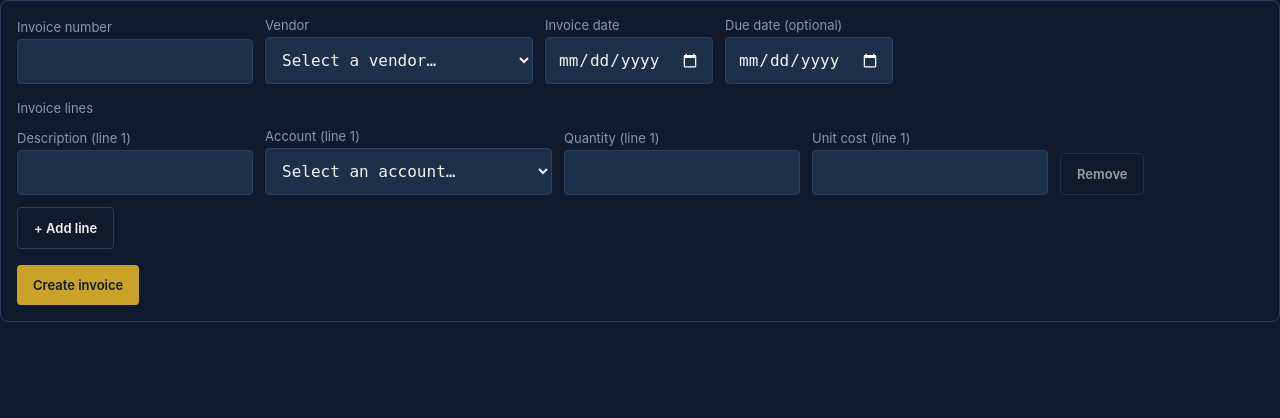
CreateAPInvoiceForm › removes a line when its own Remove button is clicked
Step 1. Click the button "+ Add line" → click(66, 228), box [17, 207, 114, 249]
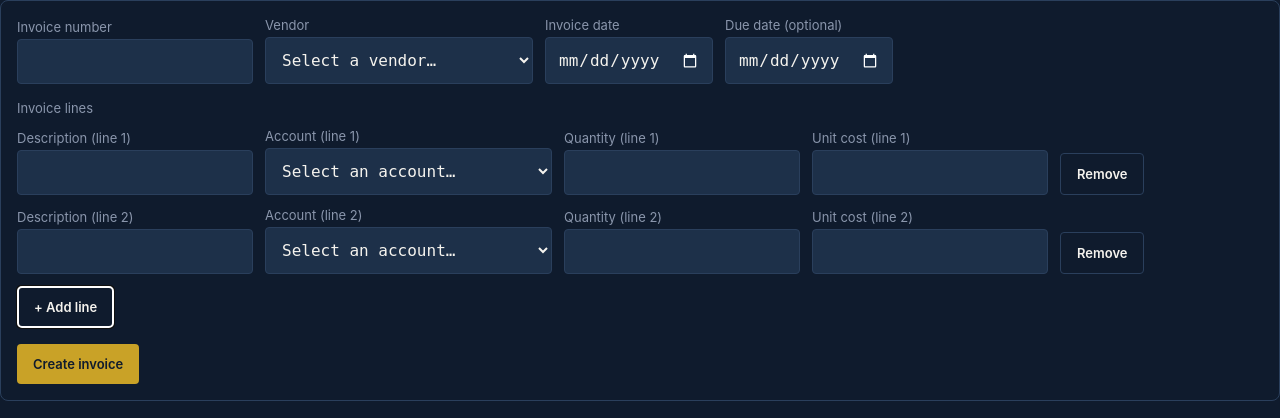
expect the field labelled "Description (line 2)" is shown: met, box [17, 229, 253, 274]
Step 2. Click the button "Remove" below "Unit cost (line 2)" → click(1102, 253), box [1060, 232, 1144, 274]
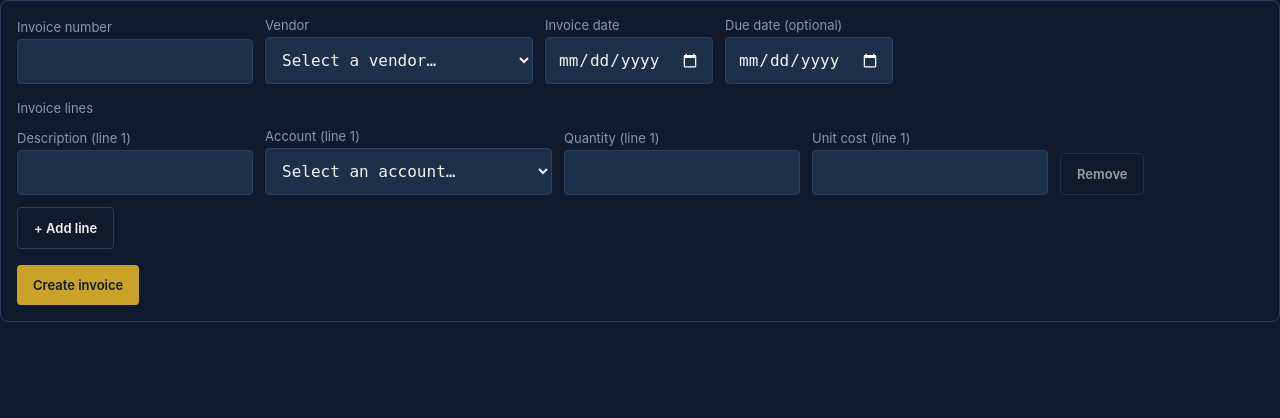
expect the label labelled "Description (line 2)" is gone: met
